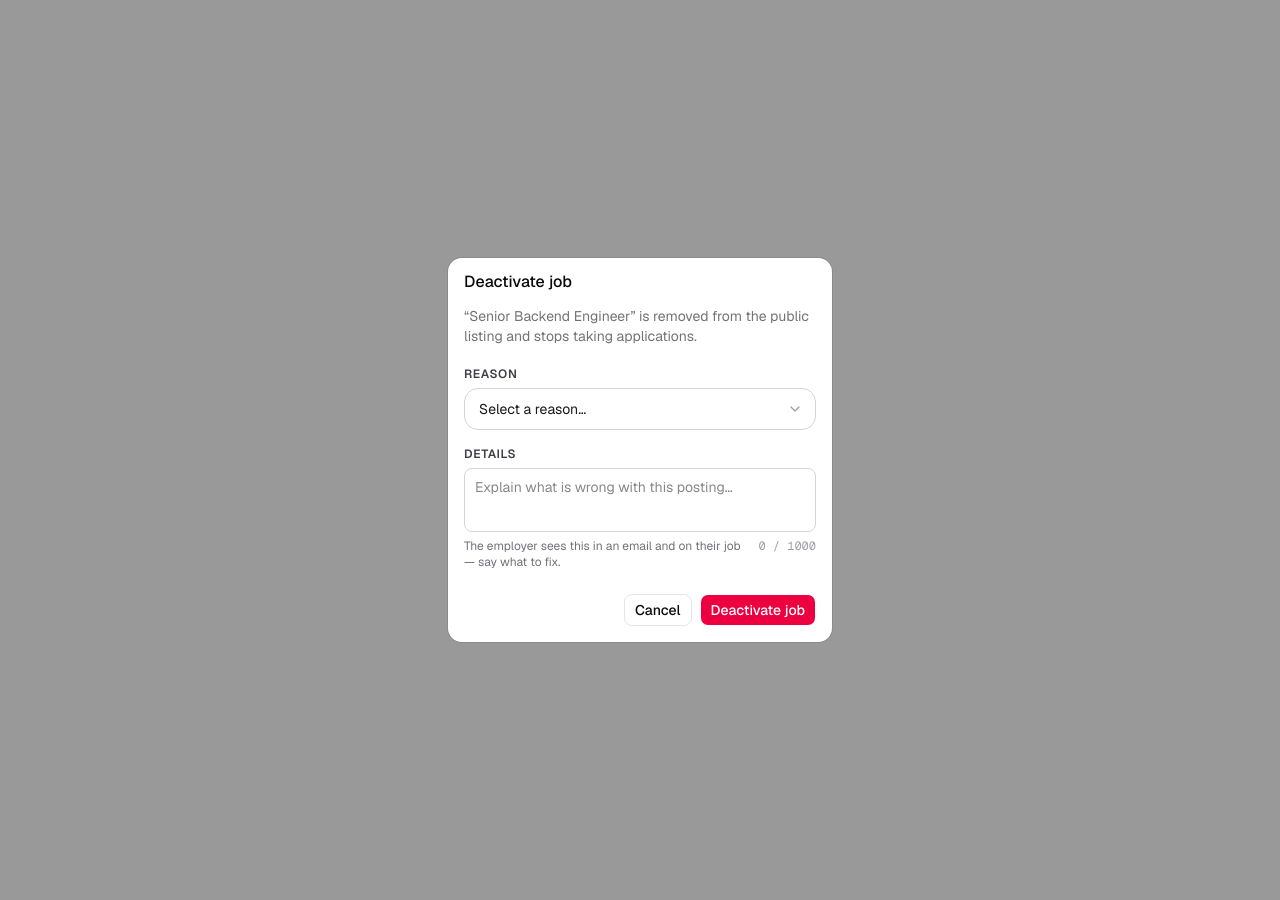
Scenario: DeactivateJobDialog › clears the error as soon as the admin fixes the field
Click the button "Deactivate job" at x=758, y=610, box x1=700 y1=594 x2=816 y2=626
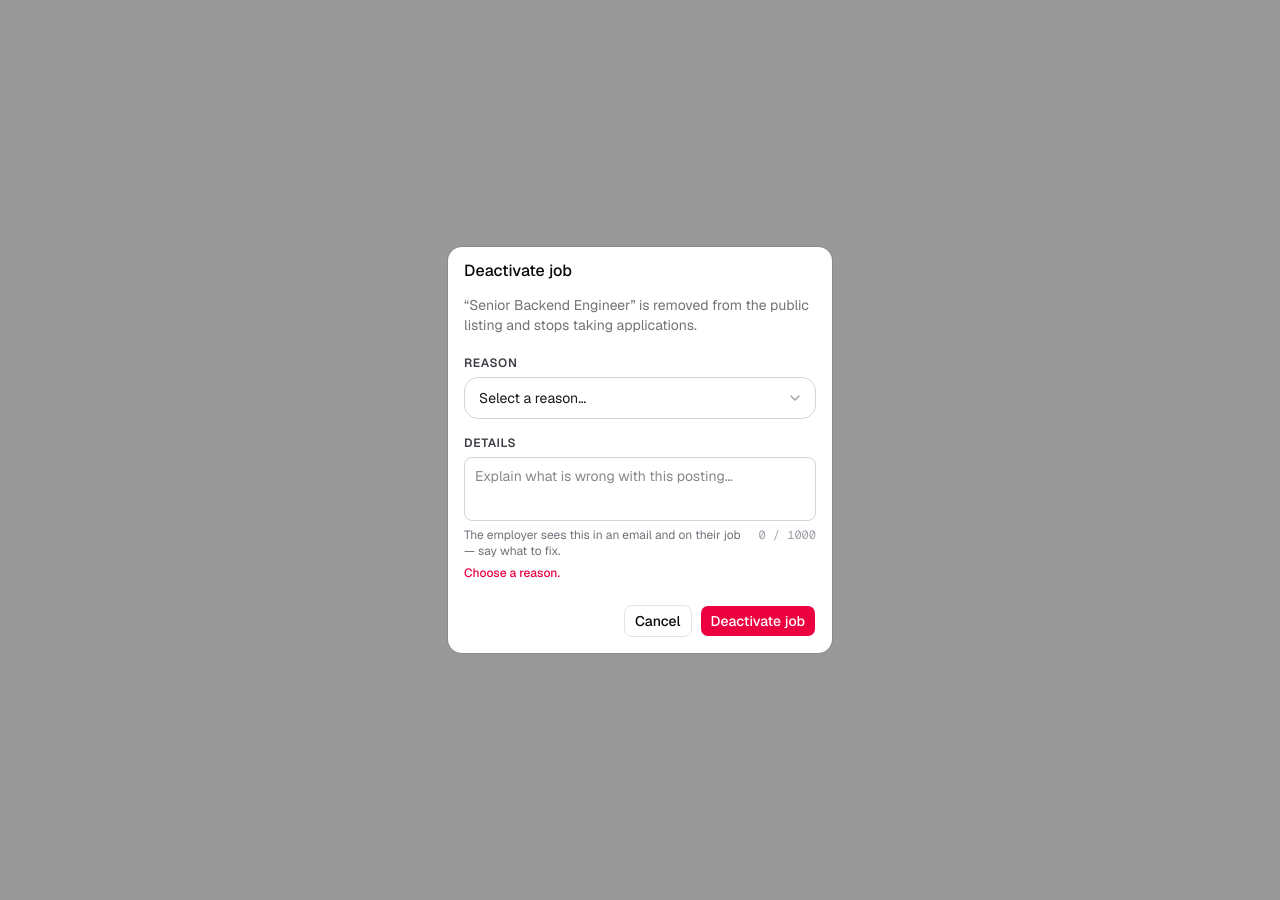
Expected: the message "Choose a reason." is shown, x1=464 y1=565 x2=560 y2=581
Select "Misleading or invalid information" in the dropdown labelled "Reason" at x=640, y=398, box x1=465 y1=378 x2=815 y2=418
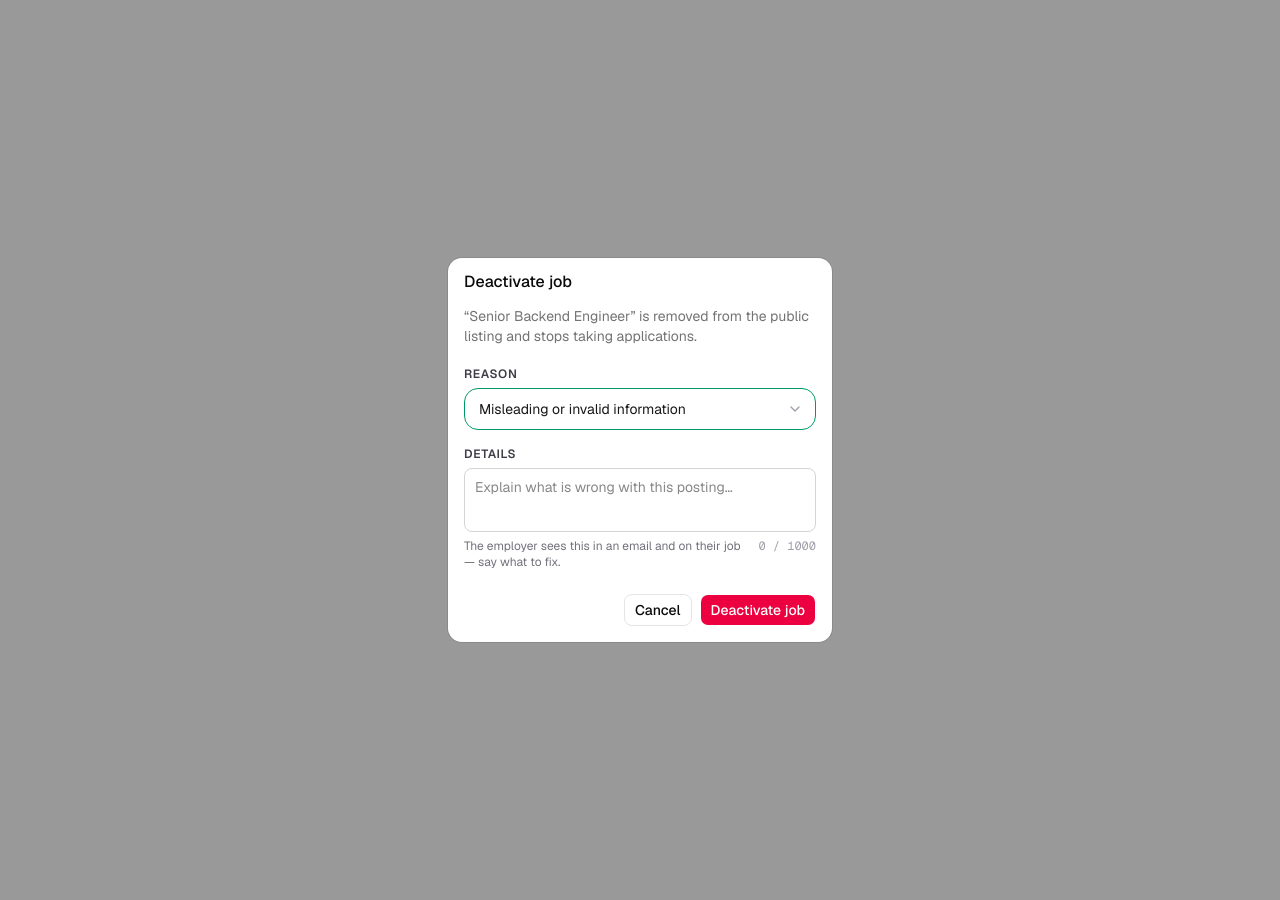
Expected: the message "Choose a reason." is gone
